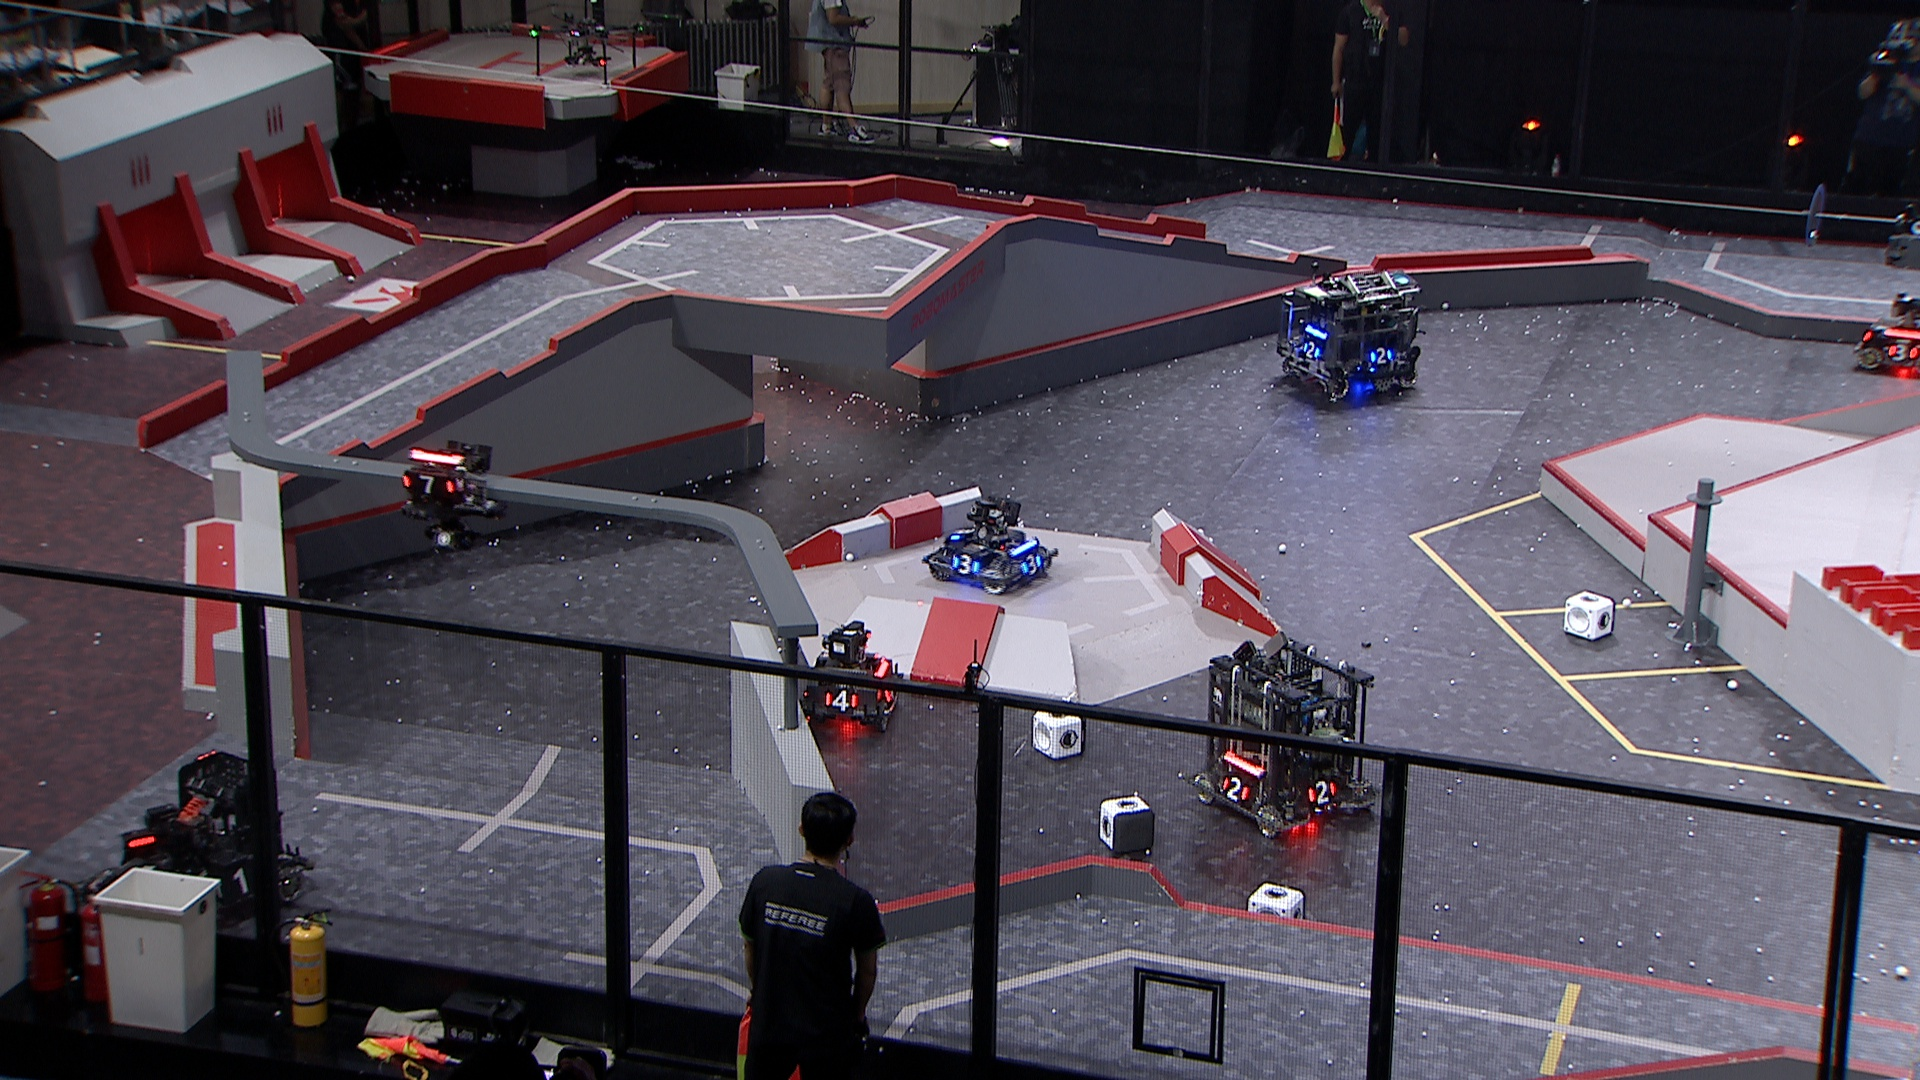armor: (404, 473, 456, 498), (215, 869, 256, 899), (1305, 777, 1338, 804), (822, 690, 860, 713), (949, 553, 982, 579), (1218, 775, 1249, 800), (1888, 342, 1920, 363), (1019, 553, 1043, 578), (1370, 345, 1393, 367), (948, 526, 975, 542), (1304, 342, 1323, 363)
car: (79, 750, 314, 945), (1185, 636, 1379, 836), (1273, 268, 1423, 404), (922, 496, 1062, 593), (793, 618, 901, 735), (1854, 291, 1920, 375)
watcher: (400, 439, 508, 556)
